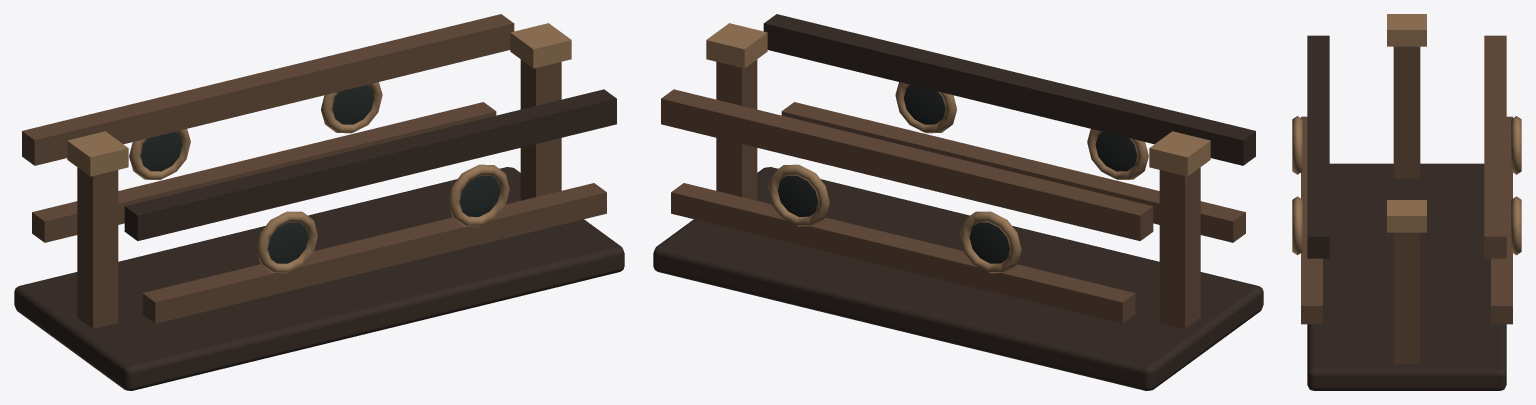
File: stocks.glb
The picture shows the model from 3 angles, left to right: view 1: azimuth 30°, elevation 25°; view 2: azimuth 150°, elevation 25°; view 3: azimuth 270°, elevation 25°; orthographic projection. The views are drawn at different scales.
Visible parts, largest first — view 1: stocks; view 2: stocks; view 3: stocks.
Boxes of the visible parts, left/top/right/bottom form: stocks: left=14, top=14, right=624, bottom=390; stocks: left=653, top=14, right=1263, bottom=390; stocks: left=1292, top=14, right=1521, bottom=390.
Size of the model in its own units: 2.6 by 1 by 1.2.
1 material, 1 textured.
